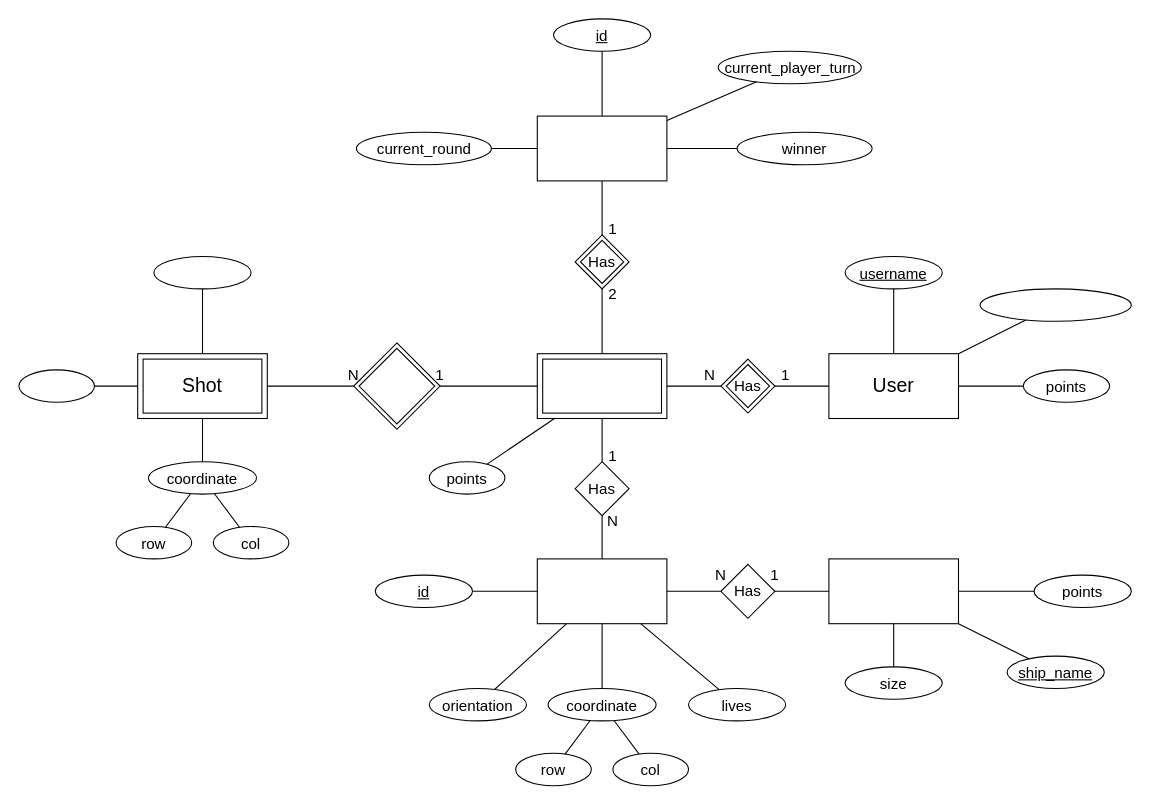
Image size: 1150x805. Some labels were removed from this diagram. Each missing label, with the box of its shape:
Game: (536, 115, 667, 181)
hashed_password: (979, 288, 1131, 321)
Made By: (353, 342, 440, 429)
Player: (536, 353, 667, 418)
result: (18, 369, 94, 402)
round: (153, 255, 251, 289)
Ship: (536, 558, 667, 624)
ShipType: (828, 558, 959, 624)
